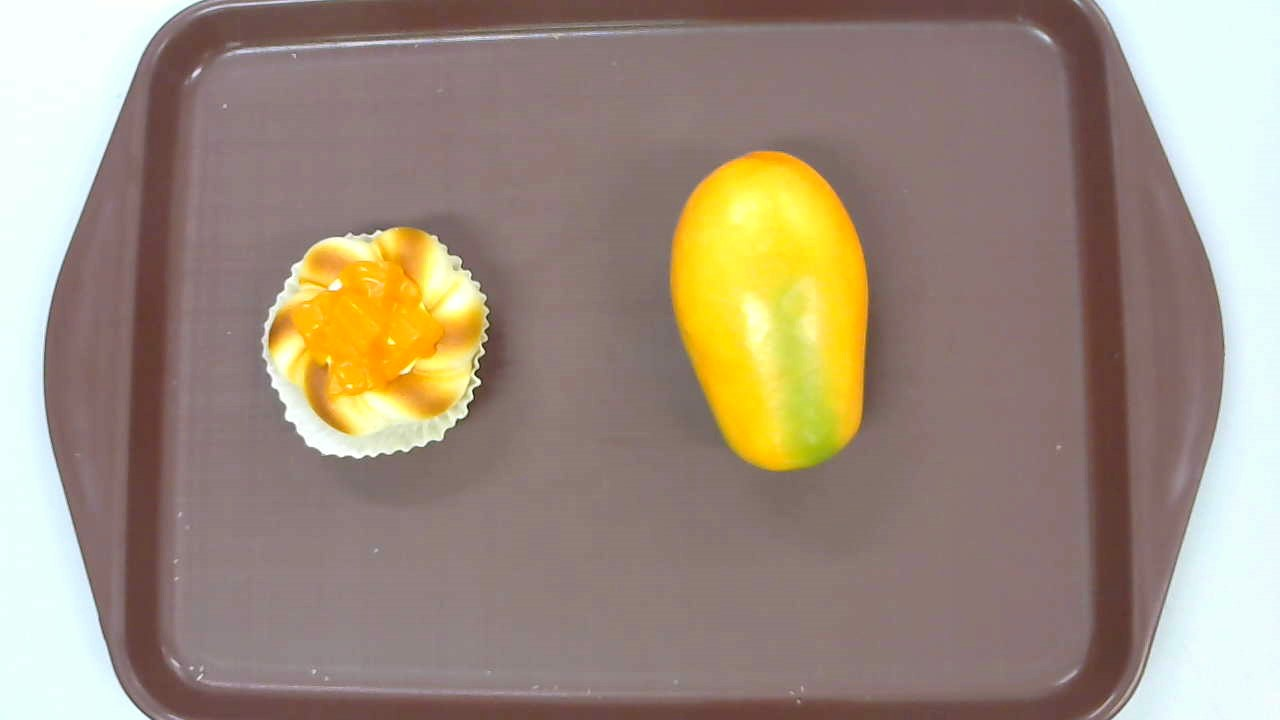mango tart: (261, 226, 491, 461)
papya: (668, 149, 869, 469)
